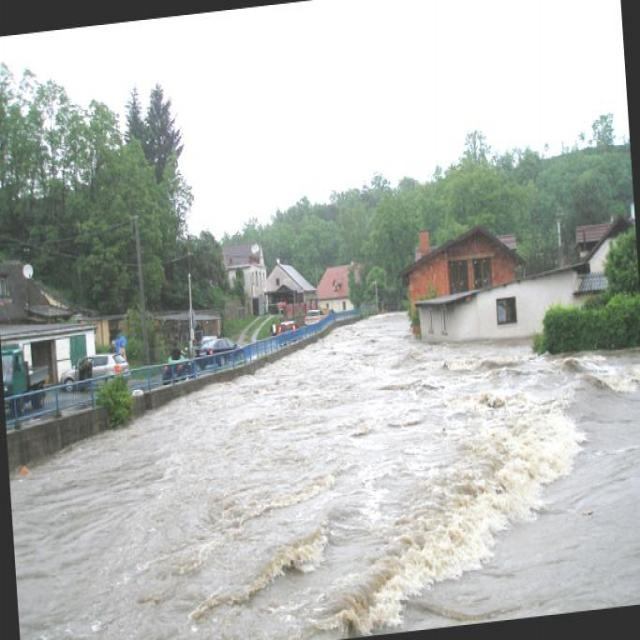flood: (4, 283, 639, 639)
